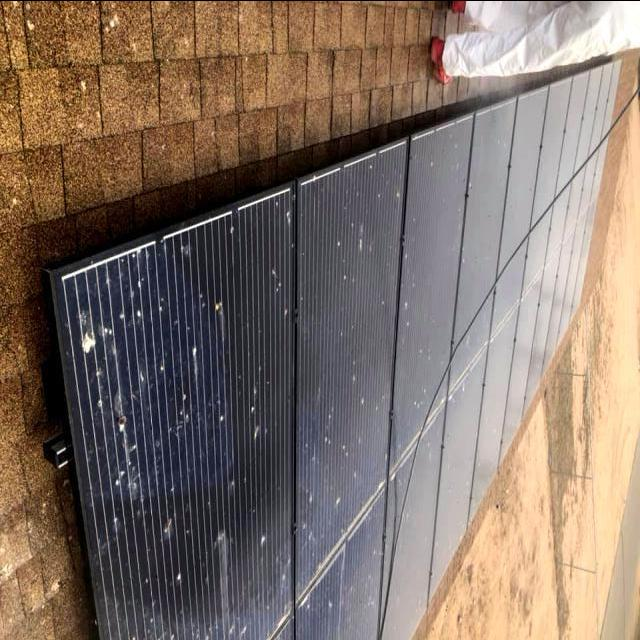soiled: (48, 108, 518, 640)
